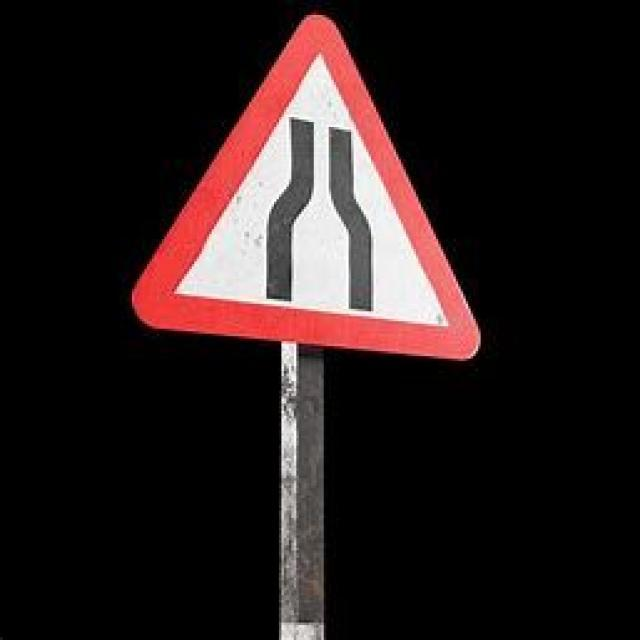narrow road ahead: (129, 18, 486, 367)
